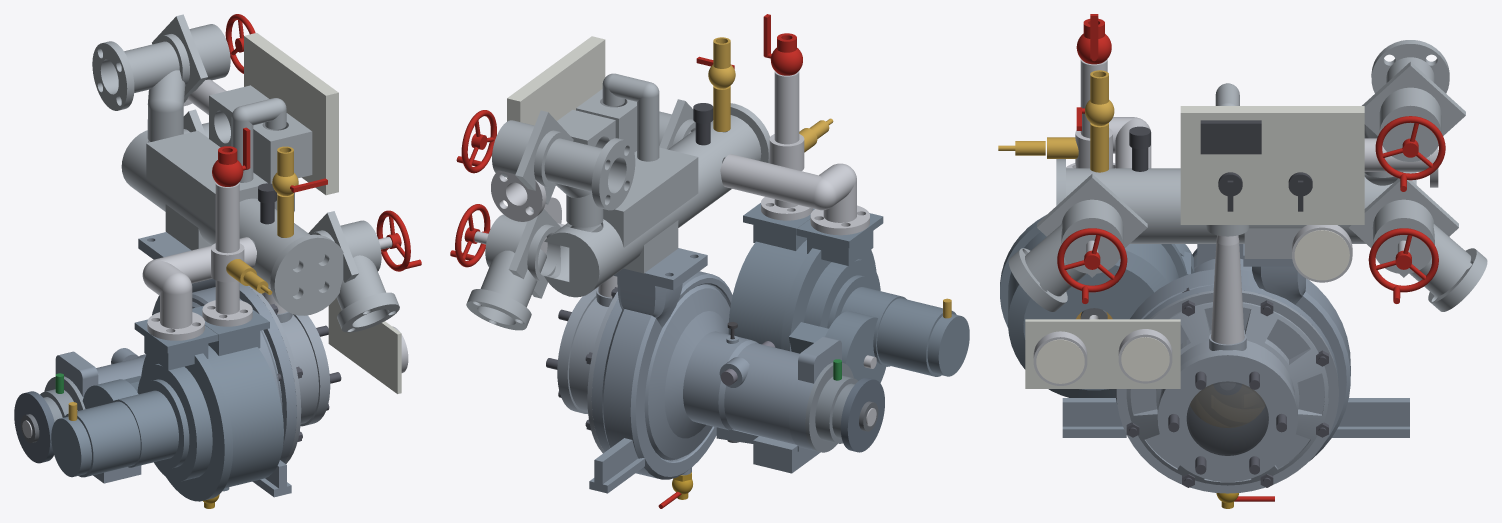
Rendered from NCPK_nasos.glb.
3 renders of one model, left to right at view 1: azimuth 30°, elevation 25°; view 2: azimuth 150°, elevation 25°; view 3: azimuth 270°, elevation 25°, orthographic. The views are drawn at different scales.
Visible parts, largest first — view 1: ВД 14 Корпус ступени (с приливами входа и выхода), П 3 Коллектор нормального давления, П 10 Вентиль напорный подачи воды в цистерну, ВД 5 Корпус опор и шестерни, 20 Корпус насоса (улитка, напорный патрубок, приливы), П 4 Панель управления, П 1 Вентиль напорный нормального давления (левый), П 29 Патрубок от коллектора НД к ступени ВД, ПС 1 Кран эжектора, 12 Крышка насоса, П 22 Коллектор высокого давления, П Щиток приборов ВД (условно) (+12 smaller); view 2: 20 Корпус насоса (улитка, напорный патрубок, приливы), П 3 Коллектор нормального давления, ВД 14 Корпус ступени (с приливами входа и выхода), П 10 Вентиль напорный подачи воды в цистерну, ВД 5 Корпус опор и шестерни, П 1 Вентиль напорный нормального давления (правый), П 29 Патрубок от коллектора НД к ступени ВД, П 4 Панель управления, 12 Крышка насоса, ПС 1 Кран эжектора, П 22 Коллектор высокого давления, 25 Корпус задней опоры (+11 smaller); view 3: 12 Крышка насоса, П 4 Панель управления, 20 Корпус насоса (улитка, напорный патрубок, приливы), ВД 14 Корпус ступени (с приливами входа и выхода), П 3 Коллектор нормального давления, П 1 Вентиль напорный нормального давления (левый), П 1 Вентиль напорный нормального давления (правый), П 10 Вентиль напорный подачи воды в цистерну, П Щиток приборов ВД (условно), 13 Сетка, ПС 10 Диффузор, П 12 Манометр: шкала (+20 smaller).
Part boxes in pixels (x1,y1,x2,y2): ВД 14 Корпус ступени (с приливами входа и выхода): [134, 306, 283, 501]; П 3 Коллектор нормального давления: [121, 130, 343, 315]; П 10 Вентиль напорный подачи воды в цистерну: [92, 14, 230, 141]; ВД 5 Корпус опор и шестерни: [64, 379, 189, 477]; 20 Корпус насоса (улитка, напорный патрубок, приливы): [55, 232, 296, 497]; П 4 Панель управления: [244, 33, 338, 195]; П 1 Вентиль напорный нормального давления (левый): [308, 211, 399, 332]; П 29 Патрубок от коллектора НД к ступени ВД: [142, 237, 256, 340]; ПС 1 Кран эжектора: [231, 98, 312, 183]; 12 Крышка насоса: [248, 285, 330, 463]; П 22 Коллектор высокого давления: [202, 182, 252, 326]; П Щиток приборов ВД (условно): [328, 298, 401, 393]; 20 Корпус насоса (улитка, напорный патрубок, приливы): [589, 248, 841, 493]; П 3 Коллектор нормального давления: [544, 103, 769, 297]; ВД 14 Корпус ступени (с приливами входа и выхода): [728, 203, 883, 351]; П 10 Вентиль напорный подачи воды в цистерну: [492, 110, 635, 227]; ВД 5 Корпус опор и шестерни: [825, 275, 956, 382]; П 1 Вентиль напорный нормального давления (правый): [466, 209, 560, 330]; П 29 Патрубок от коллектора НД к ступени ВД: [720, 154, 869, 235]; П 4 Панель управления: [507, 36, 605, 178]; 12 Крышка насоса: [557, 287, 618, 453]; ПС 1 Кран эжектора: [576, 73, 659, 161]; П 22 Коллектор высокого давления: [761, 71, 812, 220]; 25 Корпус задней опоры: [805, 362, 857, 452]; 12 Крышка насоса: [1116, 290, 1338, 493]; П 4 Панель управления: [1180, 106, 1364, 224]; 20 Корпус насоса (улитка, напорный патрубок, приливы): [1062, 244, 1409, 461]; ВД 14 Корпус ступени (с приливами входа и выхода): [1000, 215, 1187, 397]; П 3 Коллектор нормального давления: [1056, 159, 1416, 258]; П 1 Вентиль напорный нормального давления (левый): [1008, 174, 1147, 311]; П 1 Вентиль напорный нормального давления (правый): [1348, 178, 1487, 311]; П 10 Вентиль напорный подачи воды в цистерну: [1362, 40, 1465, 177]; П Щиток приборов ВД (условно): [1025, 319, 1180, 388]; 13 Сетка: [1186, 381, 1268, 455]; ПС 10 Диффузор: [1211, 235, 1244, 344]; П 12 Манометр: шкала: [1294, 230, 1349, 280].
Bounding box in the file's own units: 0.6734 × 0.784 × 0.7251.
